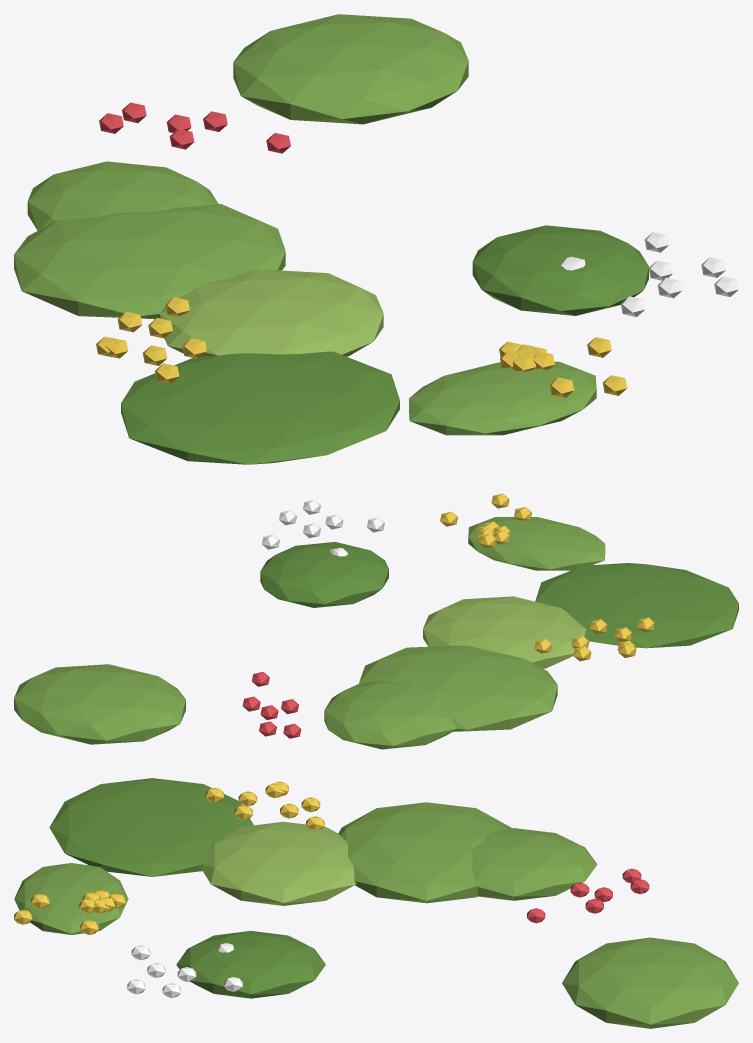
File: Kir_cimen_cicekli_4.fbx
3 renders of one model, top to bottom at view 1: azimuth 30°, elevation 25°; view 2: azimuth 150°, elevation 25°; view 3: azimuth 270°, elevation 25°, orthographic. The views are drawn at different scales.
Parts seen in each view (by area): view 1: Kir_cimen_cicekli_4; view 2: Kir_cimen_cicekli_4; view 3: Kir_cimen_cicekli_4.
Part boxes in pixels (left/top/right/bottom): Kir_cimen_cicekli_4: left=14, top=14, right=738, bottom=464; Kir_cimen_cicekli_4: left=14, top=493, right=738, bottom=749; Kir_cimen_cicekli_4: left=14, top=778, right=738, bottom=1028.
Size of the model in its own units: 15.04 by 1.13 by 18.69.
